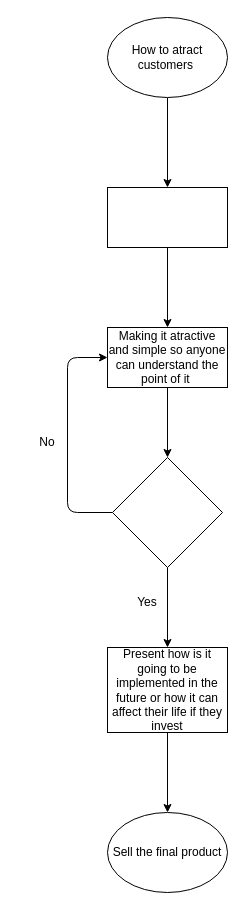
Image size: 245x910. Some labels were removed from this diagram. Here are the shapes that lost their labels. From the top down, the centre of each, then its label:
At (167,217): "Thinking of an idea".
At (167,512): "Is it atractive to the customers?".
